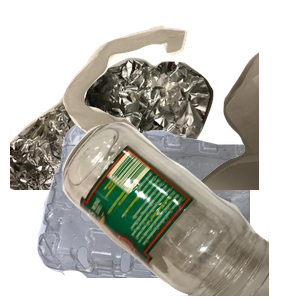glass: (60, 120, 300, 300)
metal: (10, 47, 216, 227)
plastic: (35, 120, 275, 300)
trash: (60, 23, 300, 203)
